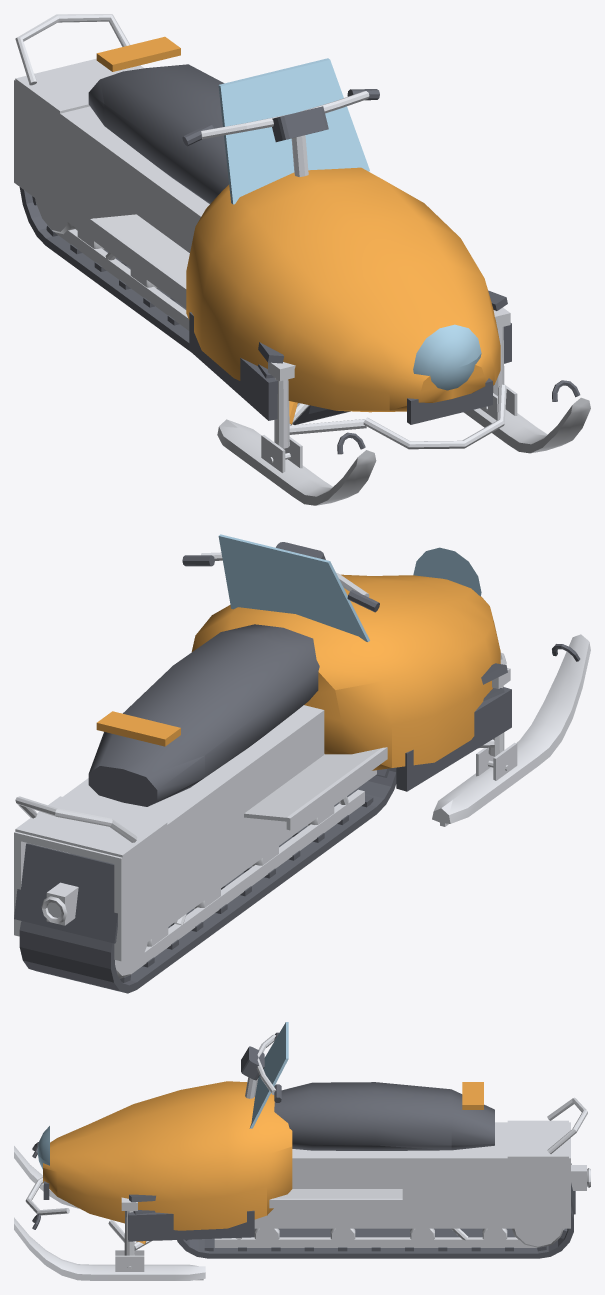
Rendered from backcountry-snowboarding-and-avalanche-safety-touring--4789b3fc__18928.glb.
3 renders of one model, top to bottom at view 1: azimuth 30°, elevation 25°; view 2: azimuth 150°, elevation 25°; view 3: azimuth 270°, elevation 25°, orthographic. The views are drawn at different scales.
Visible parts, largest first — view 1: touring-snowmobile, ski-left, ski-right, handlebar (×2); view 2: touring-snowmobile, ski-left, handlebar; view 3: touring-snowmobile, ski-right, handlebar (×2), idler-right, ski-left.
Part boxes in pixels (left/top/right/bottom): touring-snowmobile: left=14, top=14, right=511, bottom=449; ski-left: left=217, top=362, right=376, bottom=505; ski-right: left=463, top=307, right=590, bottom=453; handlebar (×2): left=182, top=89, right=379, bottom=177; touring-snowmobile: left=14, top=534, right=511, bottom=993; ski-left: left=432, top=634, right=590, bottom=826; handlebar: left=182, top=542, right=379, bottom=612; touring-snowmobile: left=25, top=1022, right=590, bottom=1258; ski-right: left=14, top=1197, right=205, bottom=1280; handlebar (×2): left=241, top=1032, right=281, bottom=1102; idler-right: left=512, top=1228, right=564, bottom=1247; ski-left: left=14, top=1146, right=79, bottom=1208.
Bounding box in the file's own units: 1.08 × 1.24 × 3.19.
